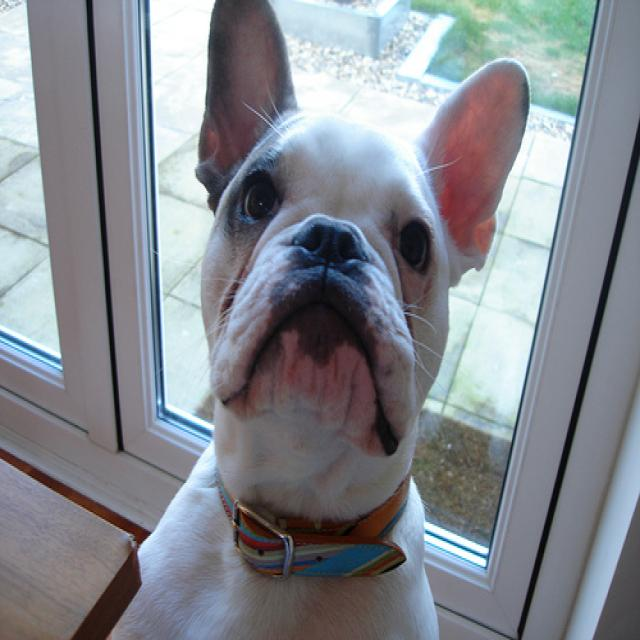dog: (107, 1, 530, 639)
